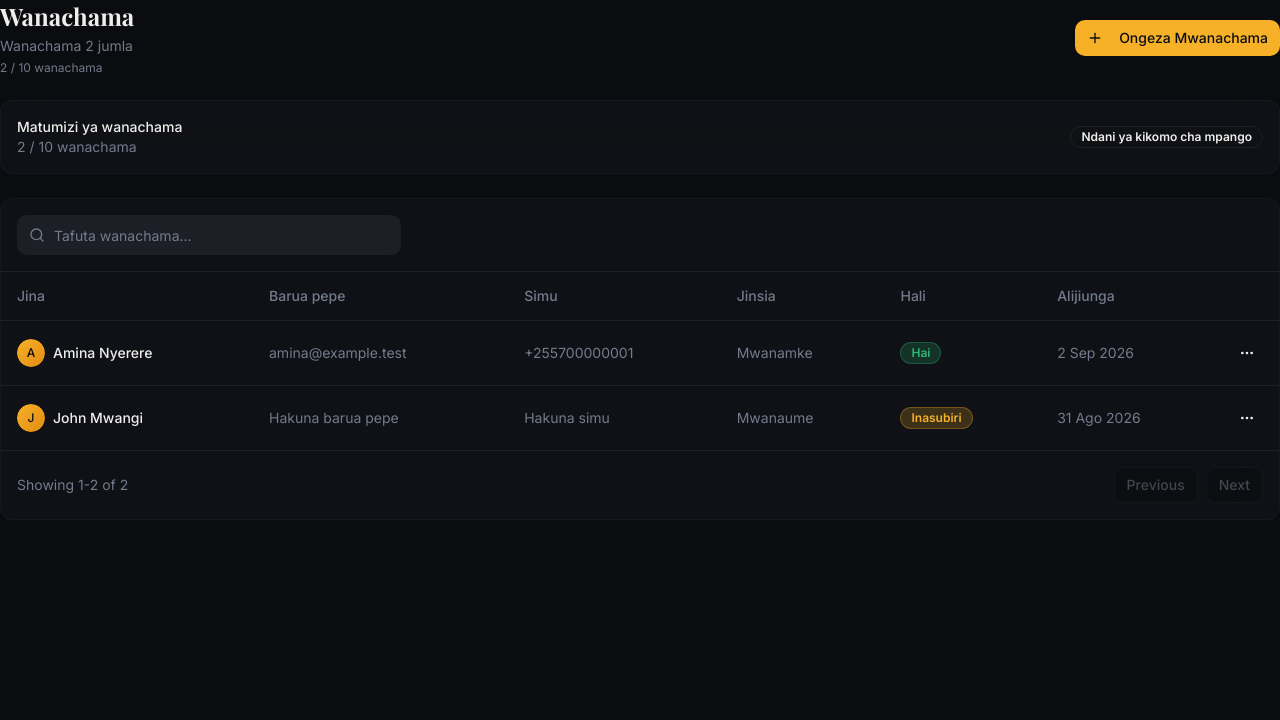
Wave 26C-2B-1 Members list localization › localizes member profile labels while preserving stored role values and user content
The image size is (1280, 720).
Click the button "A Amina Nyerere": (85, 352) [17,338,152,366]
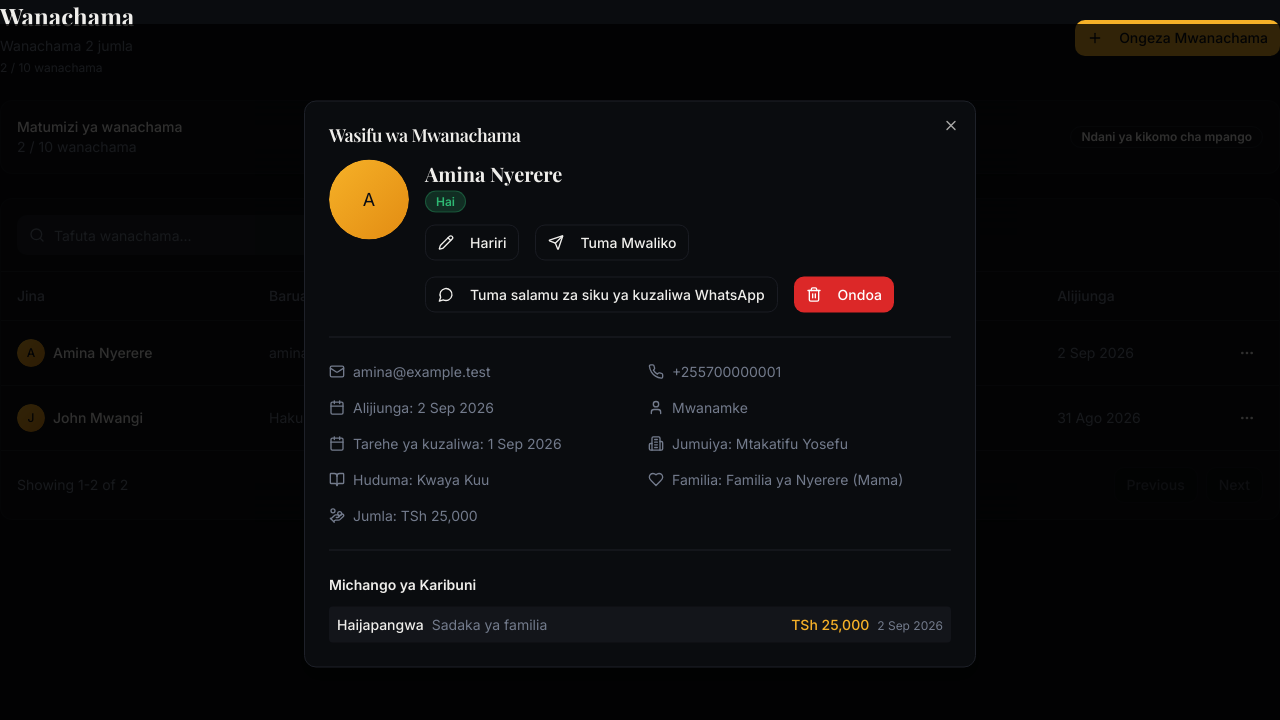
expect the text "Wasifu wa Mwanachama" is shown: met, box [329,122,520,146]
expect the text "Alijiunga:" is shown: met, box [329,398,494,416]
expect the text "Tarehe ya kuzaliwa:" is shown: met, box [329,434,562,452]
